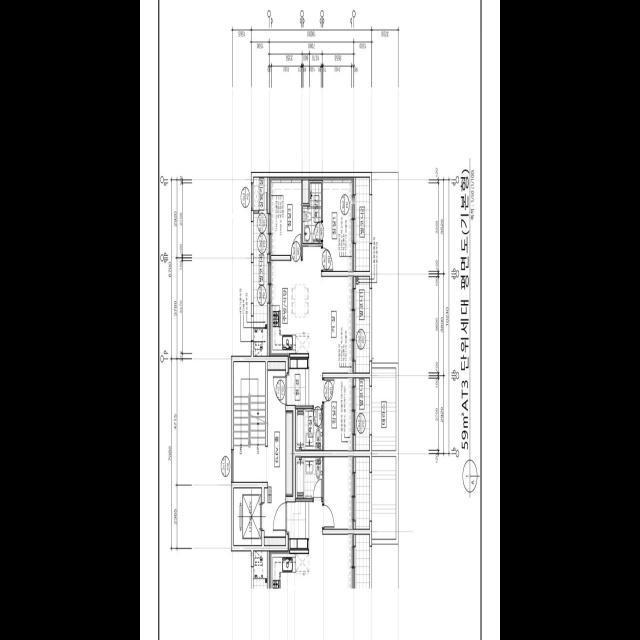background: (140, 0, 500, 640)
space_balconi: (253, 213, 267, 356), (356, 276, 370, 372), (356, 177, 370, 270), (356, 378, 370, 450)
space_bedroom: (323, 177, 353, 272), (270, 177, 302, 255), (324, 377, 353, 451)
space_elevator: (234, 487, 262, 545)
space_elevator_hall: (262, 370, 286, 536)
space_front: (287, 357, 309, 405)
space_kitchen: (270, 260, 309, 356)
space_living_room: (303, 245, 354, 405)
space_other: (286, 411, 293, 496), (264, 537, 286, 545), (303, 177, 309, 203), (268, 361, 286, 369)
space_outdoor_room: (254, 177, 267, 210)
space_staircase: (234, 361, 268, 481)
space_toilet: (296, 408, 323, 451), (303, 182, 322, 243)
